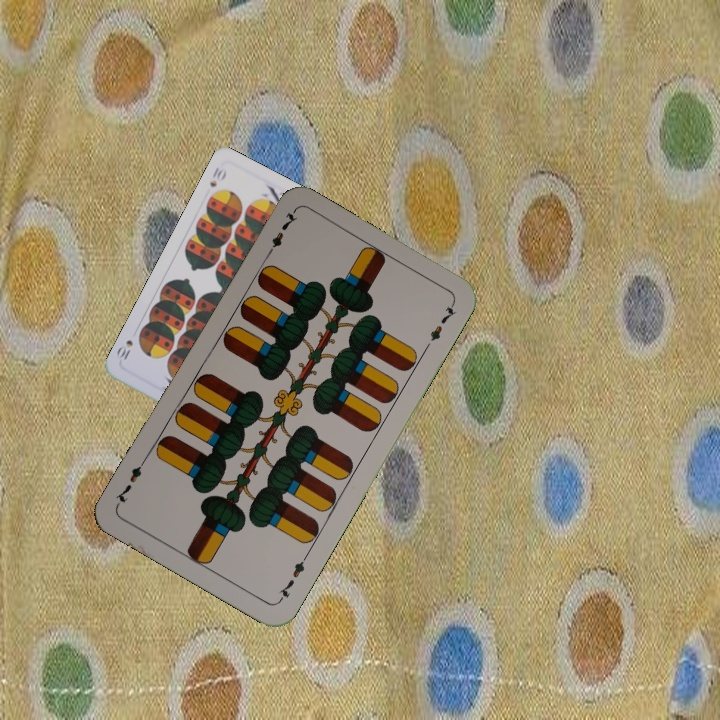E7: (261, 207, 299, 261), (275, 550, 311, 604)
S10: (206, 163, 229, 190)
